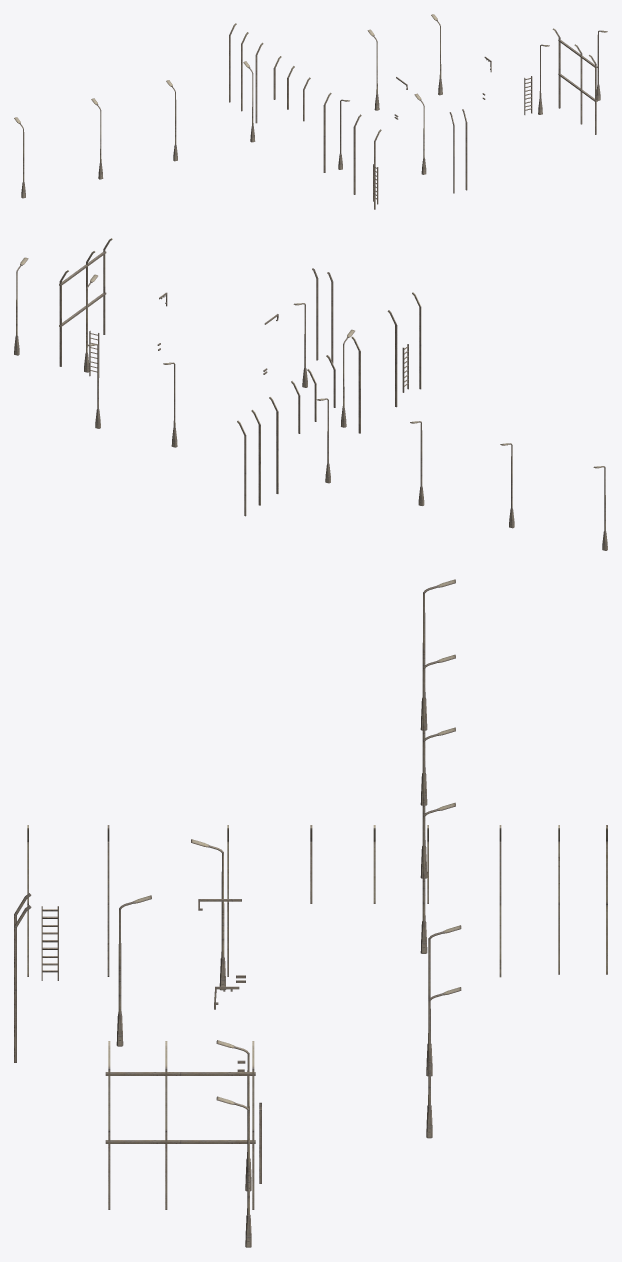
The model's file is SM_HK_Metal_00.fbx.
3 views of the same model, one above another, from view 1: azimuth 30°, elevation 25°; view 2: azimuth 150°, elevation 25°; view 3: azimuth 270°, elevation 25° (orthographic). The views are drawn at different scales.
Visible parts, largest first — view 1: SM_HK_Metal_00; view 2: SM_HK_Metal_00; view 3: SM_HK_Metal_00.
Boxes of the visible parts, x1,y1,x2,y2 form: SM_HK_Metal_00: (14,14,607,209); SM_HK_Metal_00: (14,238,607,550); SM_HK_Metal_00: (14,579,607,1247).
Size of the model in its own units: 9707 by 1432 by 4678.
